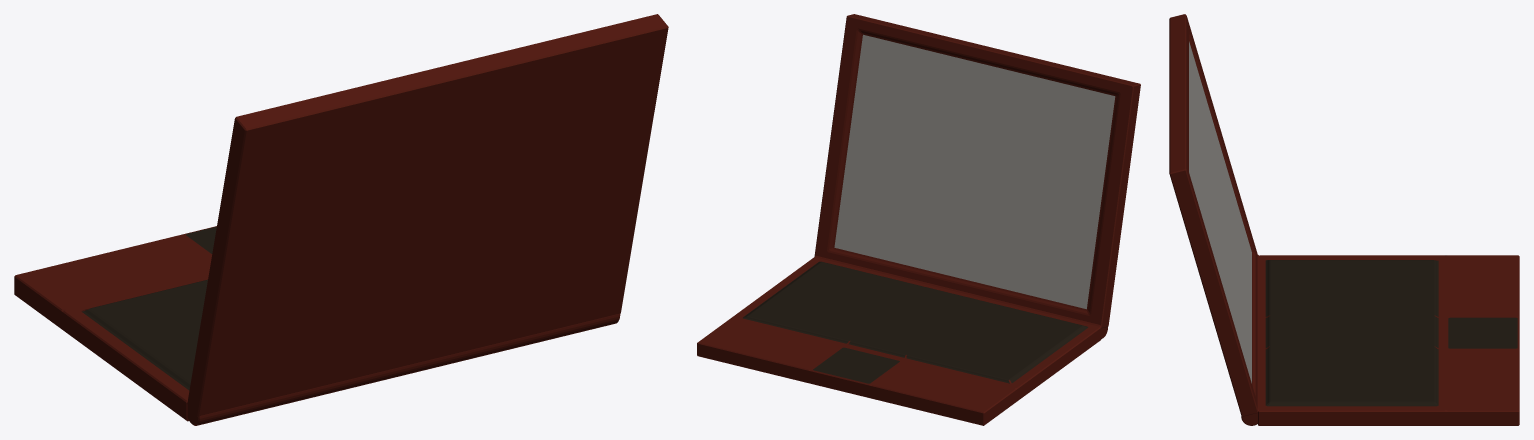
The model's file is LaptopFullV1.fbx.
3 views of the same model, side by side, from view 1: azimuth 30°, elevation 25°; view 2: azimuth 150°, elevation 25°; view 3: azimuth 270°, elevation 25° (orthographic). The views are drawn at different scales.
Parts seen in each view (by area): view 1: Cube.001; view 2: Cube.001; view 3: Cube.001.
Boxes of the visible parts, x1,y1,x2,y2 form: Cube.001: [14, 14, 668, 425]; Cube.001: [697, 14, 1140, 425]; Cube.001: [1169, 14, 1519, 425].
Bounding box in the file's own units: 239 × 252 × 194.
